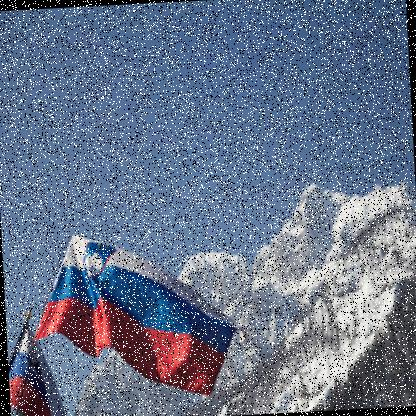si: (29, 213, 244, 406), (10, 314, 71, 416)
